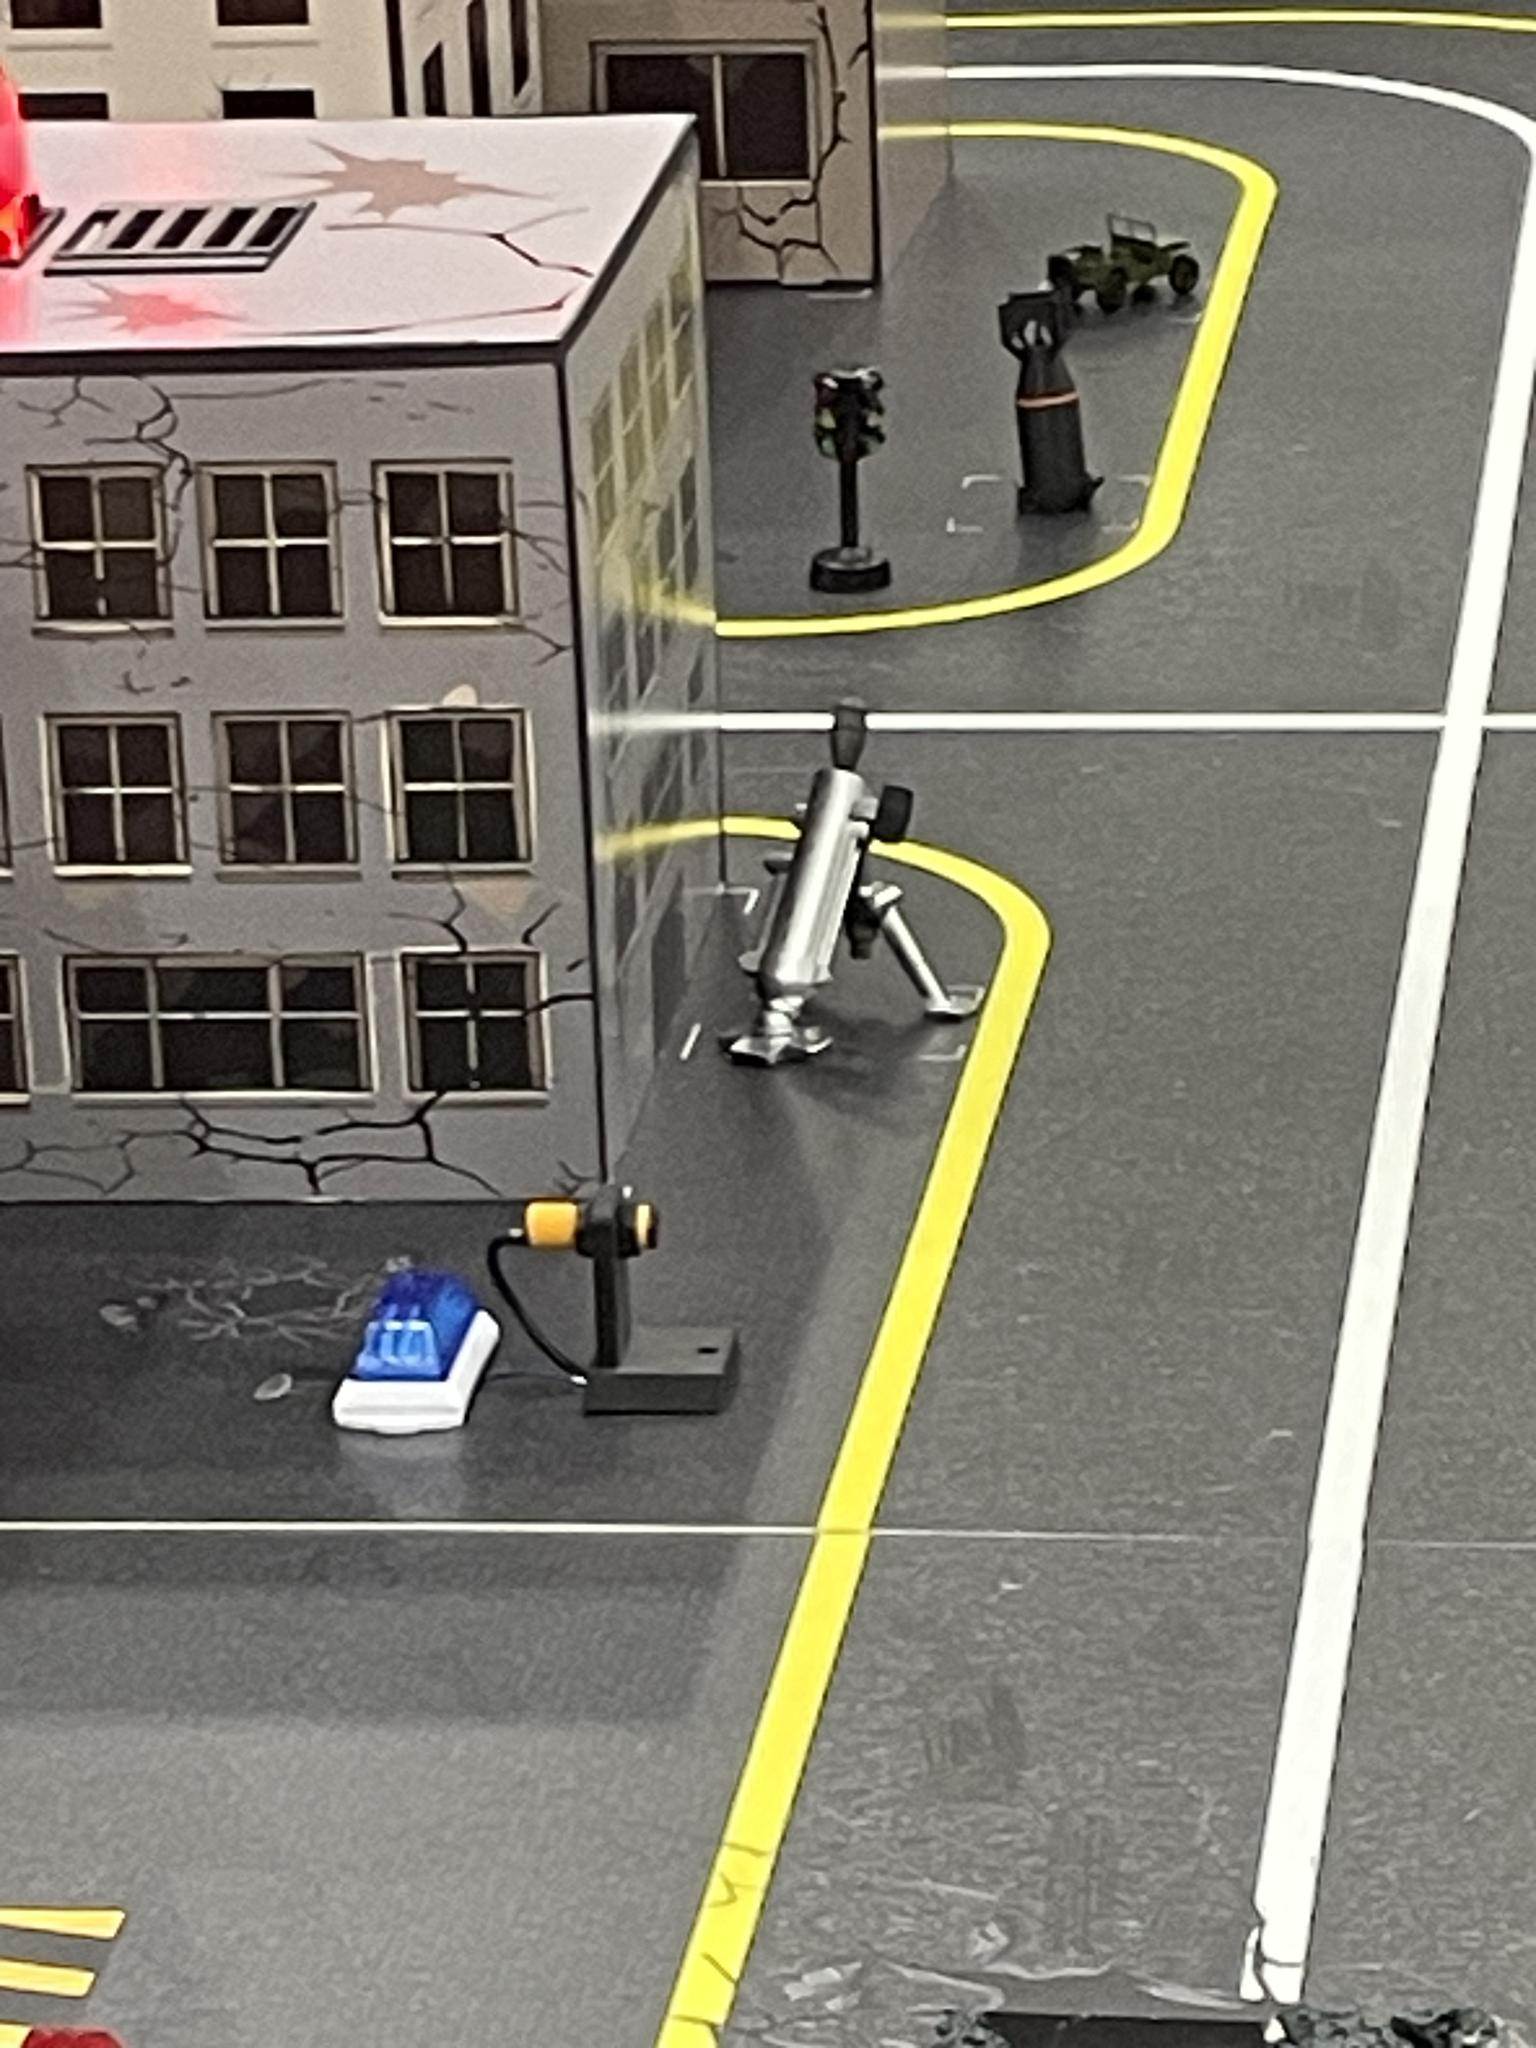Car: (1047, 216, 1202, 305)
Missile: (995, 282, 1110, 521)
Mortar: (724, 689, 983, 1069)
